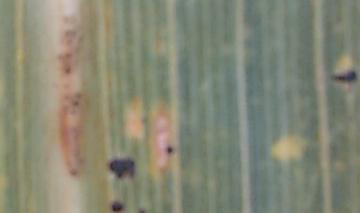tarspot: (110, 159, 136, 180), (333, 72, 358, 83), (111, 201, 123, 211), (166, 145, 174, 155), (138, 208, 147, 213)
